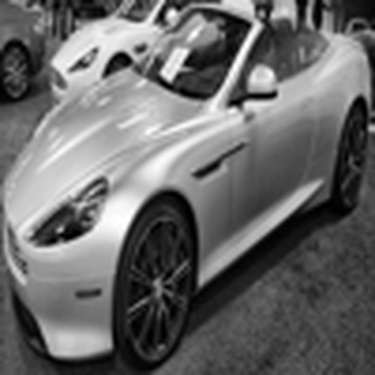car: (5, 3, 371, 369), (50, 2, 214, 110), (1, 1, 50, 105)
